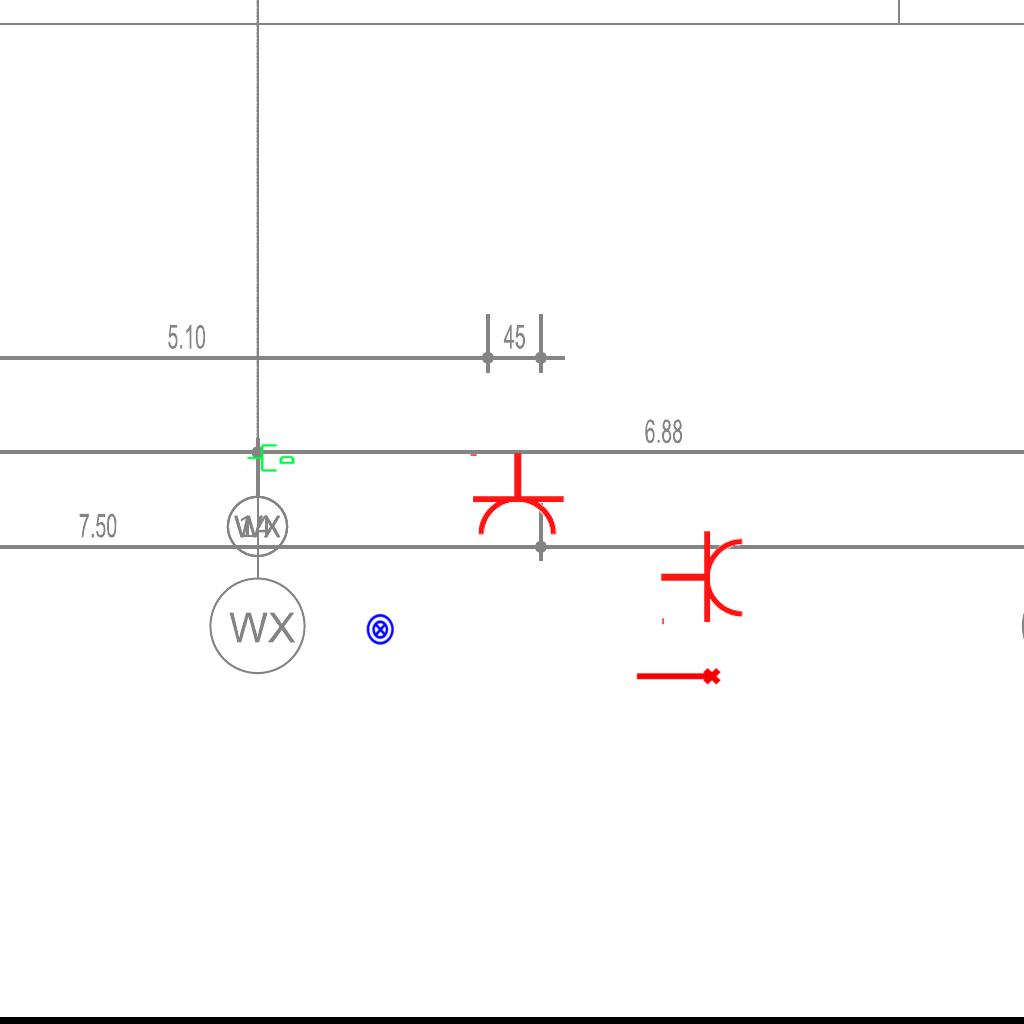ASR_Ansaugoeffnung: (634, 666, 722, 689)
Datenanschluss_einfach: (246, 440, 296, 474)
Schukosteckdose_einfach: (659, 529, 746, 629), (466, 451, 566, 538)
Taster_beleuchtet: (364, 613, 397, 646)
